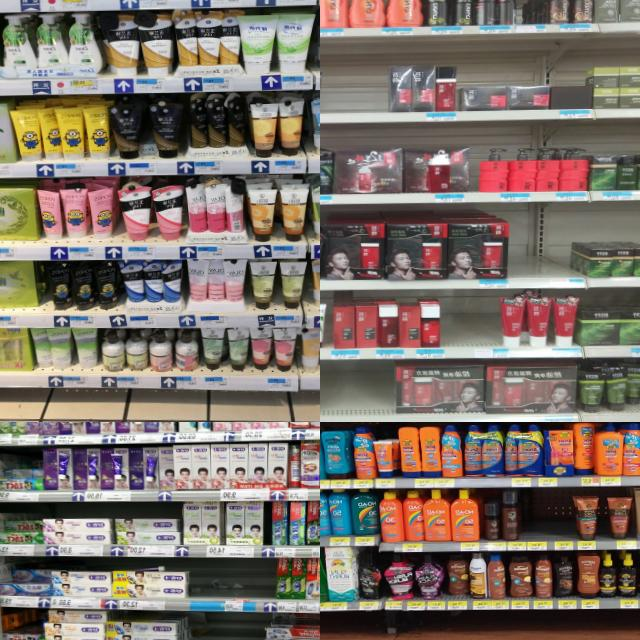100% O.O.S: (188, 558, 276, 609), (198, 613, 262, 640)
100- O.O.S: (508, 212, 572, 286), (320, 362, 391, 422), (323, 58, 387, 120), (442, 292, 499, 358), (549, 491, 573, 550), (524, 490, 546, 550)
